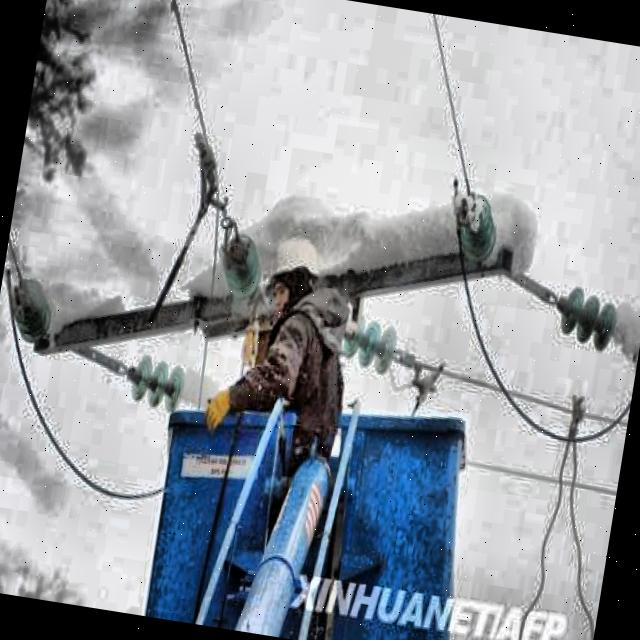helmet: (258, 224, 325, 328)
